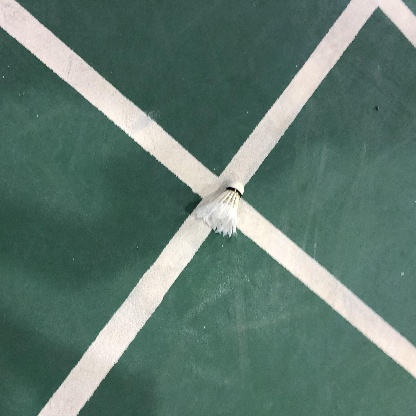ball_single: (196, 181, 244, 238)
